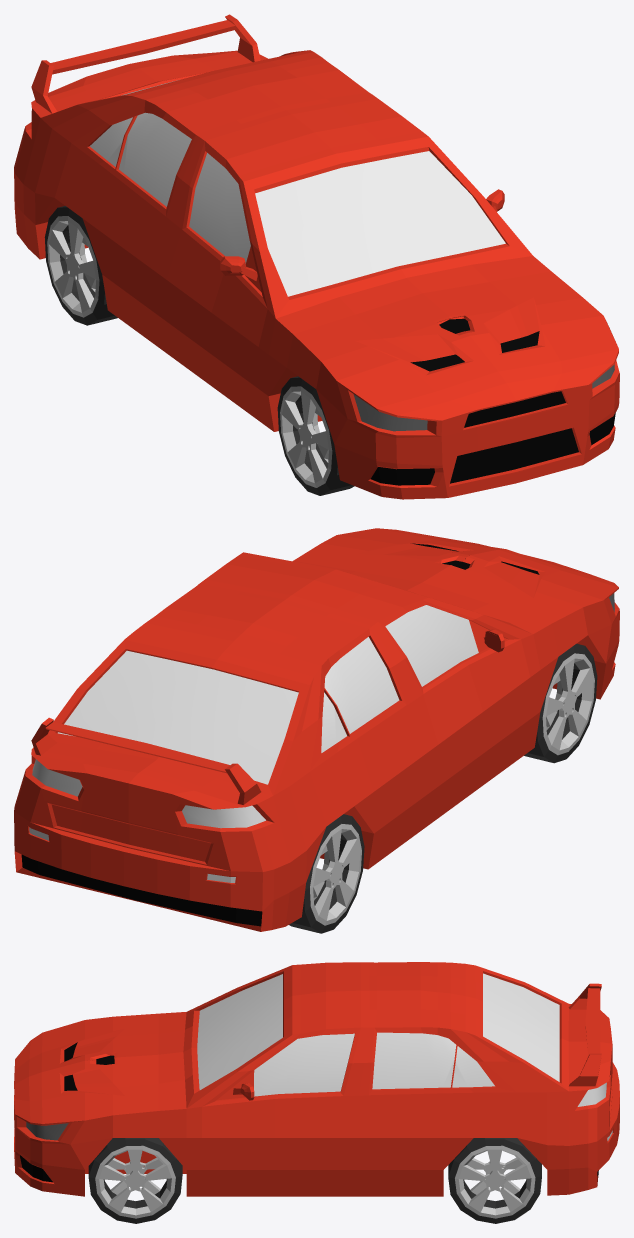
Rendered from Lancer.fbx.
3 views of the same model, one above another, from view 1: azimuth 30°, elevation 25°; view 2: azimuth 150°, elevation 25°; view 3: azimuth 270°, elevation 25° (orthographic). The views are drawn at different scales.
Visible parts, largest first — view 1: Cube, Cube.001, Cylinder; view 2: Cube, Cube.001, Cylinder; view 3: Cube, Cube.001, Cylinder.
Boxes of the visible parts, x1,y1,x2,y2 form: Cube: (14, 14, 619, 499); Cube.001: (89, 80, 614, 431); Cylinder: (44, 206, 354, 495); Cube: (14, 528, 619, 931); Cube.001: (32, 593, 614, 828); Cylinder: (289, 643, 597, 933); Cube: (14, 962, 619, 1196); Cube.001: (26, 973, 606, 1140); Cylinder: (88, 1138, 541, 1223).
Bounding box in the file's own units: 252 × 203 × 603.
